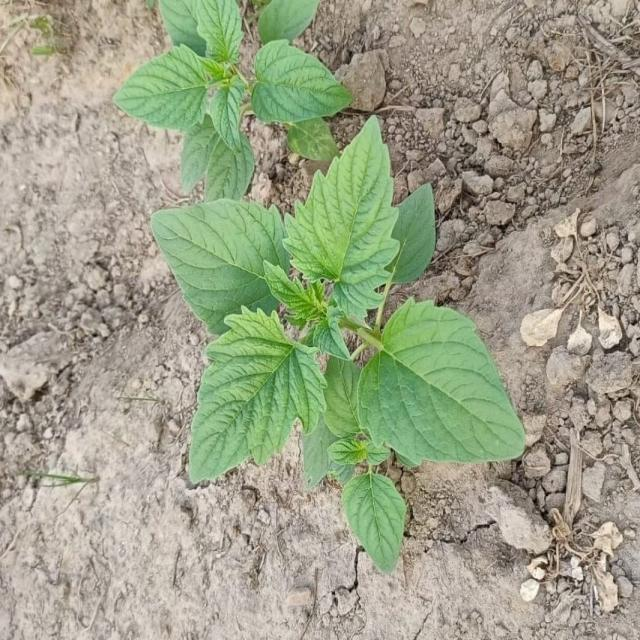plant: (115, 0, 525, 572), (247, 119, 267, 127)
